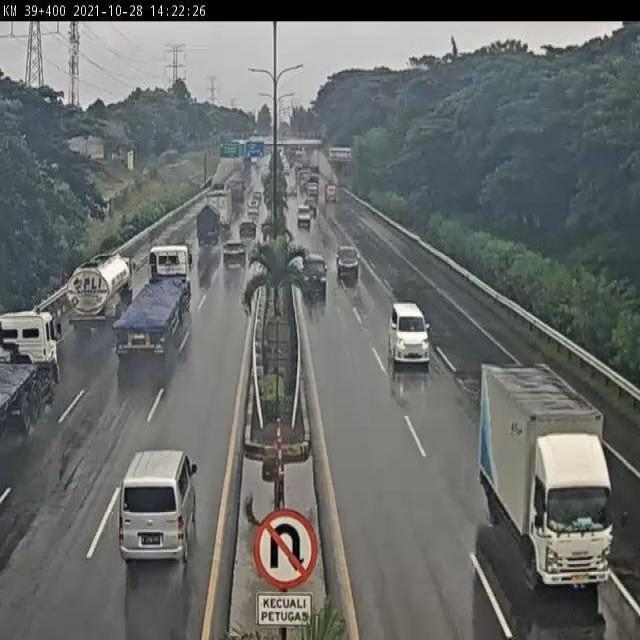car: (119, 448, 200, 565), (388, 301, 432, 368), (302, 250, 327, 294), (220, 237, 249, 272), (336, 243, 362, 277), (237, 213, 259, 240), (295, 204, 313, 228)
small truck: (474, 356, 611, 596)
truck-l-: (63, 252, 135, 331)
truck-s-: (196, 205, 220, 247)
truck-xl-: (114, 245, 192, 363), (0, 306, 58, 434)
